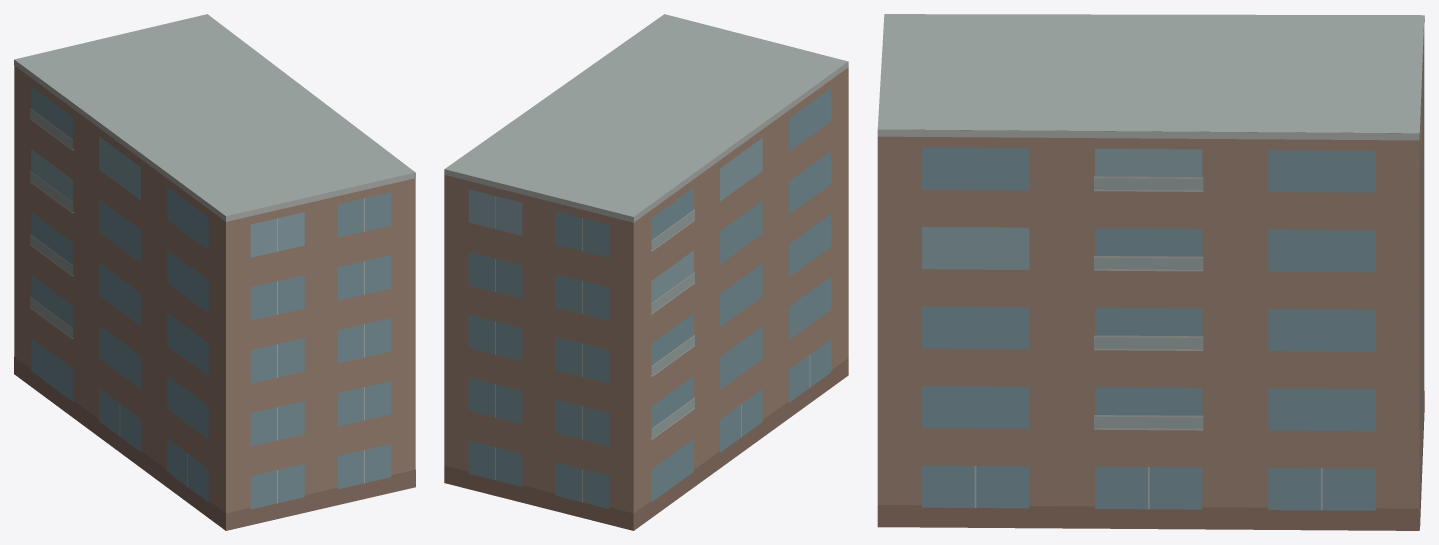
File: survey-upis-32579032.glb
3 views of the same model, side by side, from view 1: azimuth 30°, elevation 25°; view 2: azimuth 150°, elevation 25°; view 3: azimuth 270°, elevation 25° (orthographic). The views are drawn at different scales.
Parts seen in each view (by area): view 1: survey-upis-32579032.tmp; view 2: survey-upis-32579032.tmp; view 3: survey-upis-32579032.tmp.
Part boxes in pixels (x1=…): survey-upis-32579032.tmp: x1=14, y1=14, x2=415, y2=530; survey-upis-32579032.tmp: x1=444, y1=14, x2=848, y2=530; survey-upis-32579032.tmp: x1=877, y1=14, x2=1424, y2=530.
Size of the model in its own units: 8.69 by 13.5 by 16.83.
